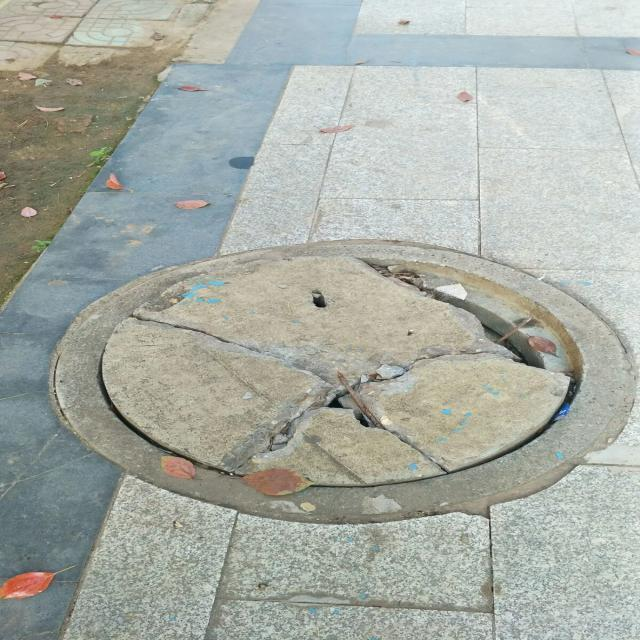manhole: (51, 240, 635, 523)
